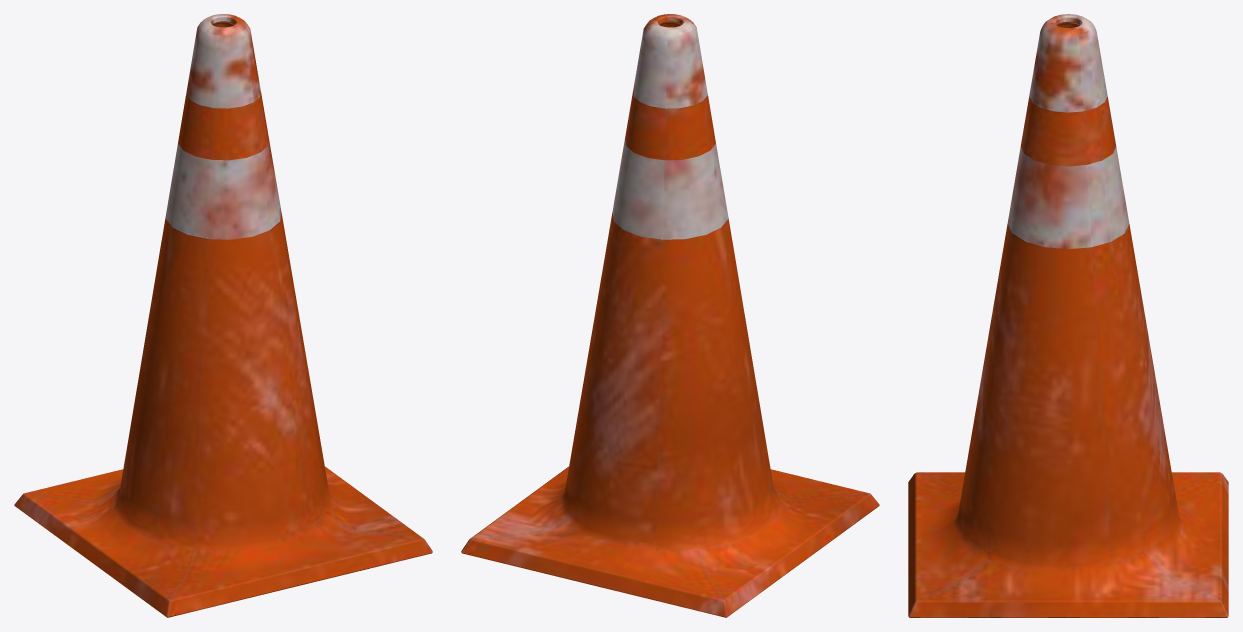
The picture shows the model from 3 angles, left to right: view 1: azimuth 30°, elevation 25°; view 2: azimuth 150°, elevation 25°; view 3: azimuth 270°, elevation 25°; orthographic projection. The views are drawn at different scales.
Visible parts, largest first — view 1: paint; view 2: paint; view 3: paint.
Part boxes in pixels (x1,y1,x2,y2): paint: [14, 14, 432, 617]; paint: [461, 14, 879, 617]; paint: [908, 14, 1228, 617].
Size of the model in its own units: 0.3843 by 0.7 by 0.3843.
Materials: 1 (1 with a texture image).
